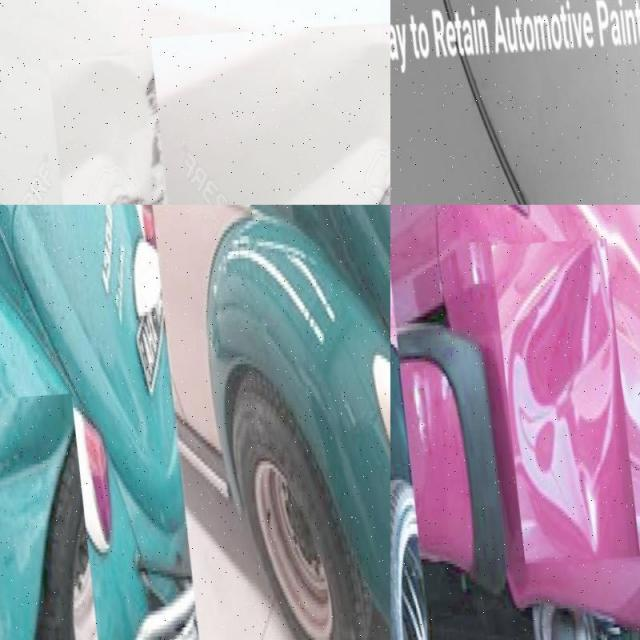car damage: (504, 233, 631, 574)
